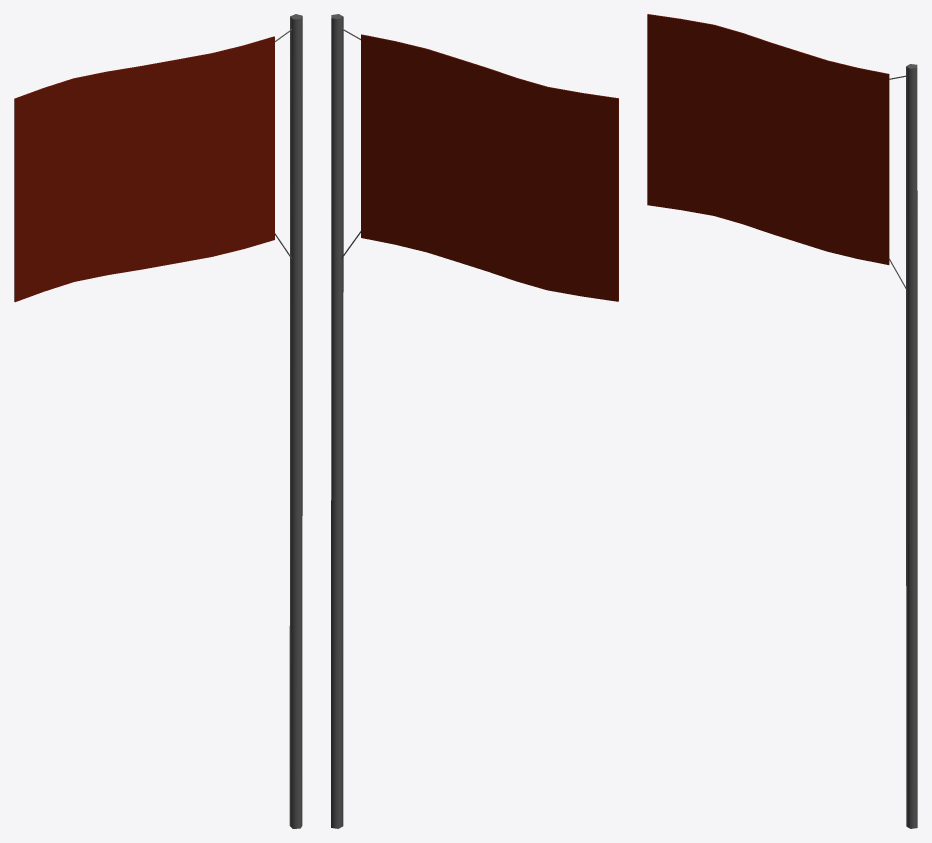
Rendered from Flag.fbx.
3 renders of one model, left to right at view 1: azimuth 30°, elevation 25°; view 2: azimuth 150°, elevation 25°; view 3: azimuth 330°, elevation 25°, orthographic. The views are drawn at different scales.
Parts seen in each view (by area): view 1: Flag_1; view 2: Flag_1; view 3: Flag_1.
Part boxes in pixels (x1,y1,x2,y2): Flag_1: (14, 14, 302, 828); Flag_1: (331, 14, 618, 828); Flag_1: (647, 14, 917, 828).
Size of the model in its own units: 24.78 by 66.66 by 1.43.
